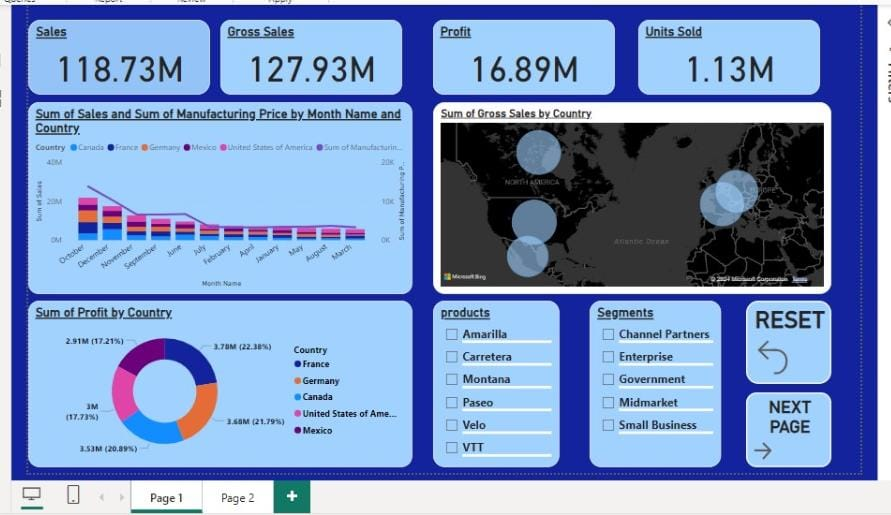

Layout of this report page (visuals, bound fields, positions):
{"tool":"powerbi","page":{"name":"Page 1","canvas":[1280,720],"ordinal":0},"visuals":[{"type":"card","title":"Sales","fields":{"Values":["Sum(financials. Sales)"]},"box":[0,23,279.4,115.2],"z":0},{"type":"card","title":"Gross Sales","fields":{"Values":["Sum(financials.Gross Sales)"]},"box":[295.2,23,279.4,115.2],"z":1},{"type":"card","title":"Profit","fields":{"Values":["Sum(financials.Profit)"]},"box":[622.1,23,279.4,115.2],"z":2},{"type":"card","title":"Units Sold","fields":{"Values":["Sum(financials.Units Sold)"]},"box":[954.7,23,279.4,115.2],"z":3},{"type":"lineStackedColumnComboChart","fields":{"Y":["Sum(financials. Sales)"],"Category":["financials.Month Name"],"Series":["financials.Country"],"Y2":["Sum(financials.Manufacturing Price)"]},"box":[0,149.8,590.4,295.2],"z":4},{"type":"donutChart","fields":{"Category":["financials.Country"],"Y":["Sum(financials.Profit)"]},"box":[0,455,590.4,256.3],"z":6},{"type":"slicer","title":"products","fields":{"Values":["financials.Product"]},"box":[622.1,455,194.4,256.3],"z":7},{"type":"slicer","title":"Segments","fields":{"Values":["financials.Segment"]},"box":[862.6,455,201.6,256.3],"z":8},{"type":"actionButton","title":"RESET","box":[1103,455,131,128.2],"z":9},{"type":"actionButton","title":"NEXT PAGE","box":[1103,596.2,131,115.2],"z":10},{"type":"map","fields":{"Category":["financials.Country"],"Size":["Sum(financials.Gross Sales)"]},"box":[622.1,149.8,612,295.2],"z":11}]}

Visuals, with their boxes on the page's 1280x720 design canvas (x1, y1, x2, y2). These are canvas units, not pixel positions in the 891x515 screenshot, which may show the page scaled, cropped or inside an application window:
"Sales" card: (0, 23, 279, 138)
"Gross Sales" card: (295, 23, 575, 138)
"Profit" card: (622, 23, 902, 138)
"Units Sold" card: (955, 23, 1234, 138)
lineStackedColumnComboChart - Sum(financials. Sales) x financials.Month Name: (0, 150, 590, 445)
donutChart - financials.Country x Sum(financials.Profit): (0, 455, 590, 711)
"products" slicer: (622, 455, 816, 711)
"Segments" slicer: (863, 455, 1064, 711)
"RESET" actionButton: (1103, 455, 1234, 583)
"NEXT PAGE" actionButton: (1103, 596, 1234, 711)
map - financials.Country x Sum(financials.Gross Sales): (622, 150, 1234, 445)
